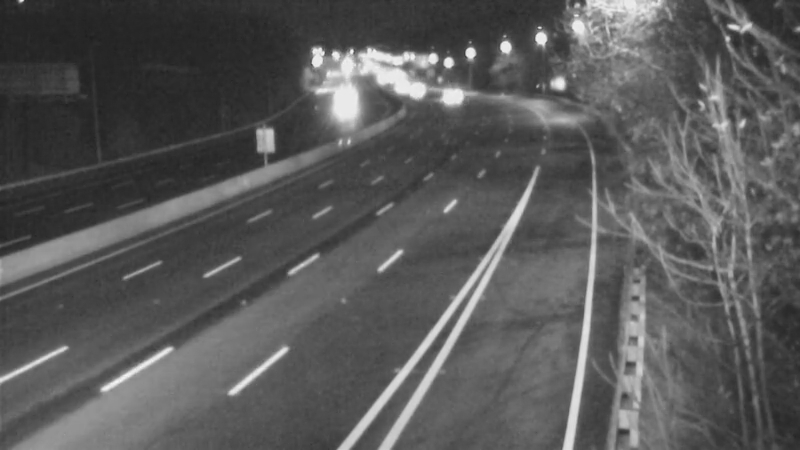vehicle: (375, 61, 425, 111), (386, 66, 436, 116), (421, 72, 471, 122), (315, 74, 365, 124)
